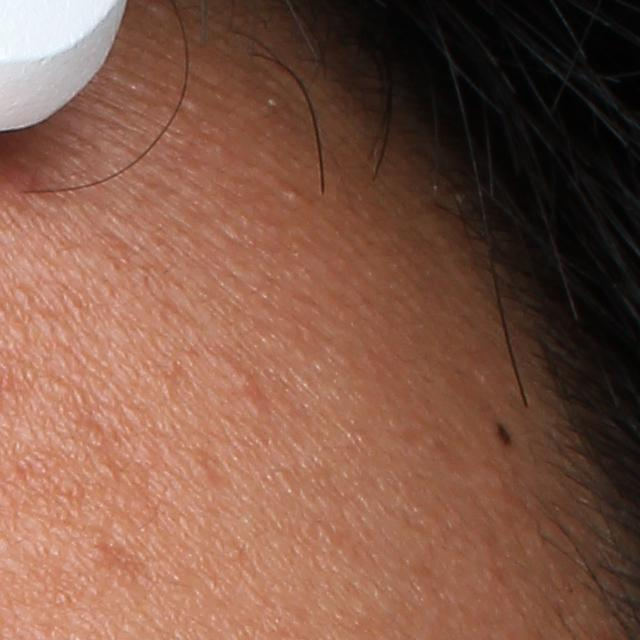nevus: (491, 420, 514, 447)
